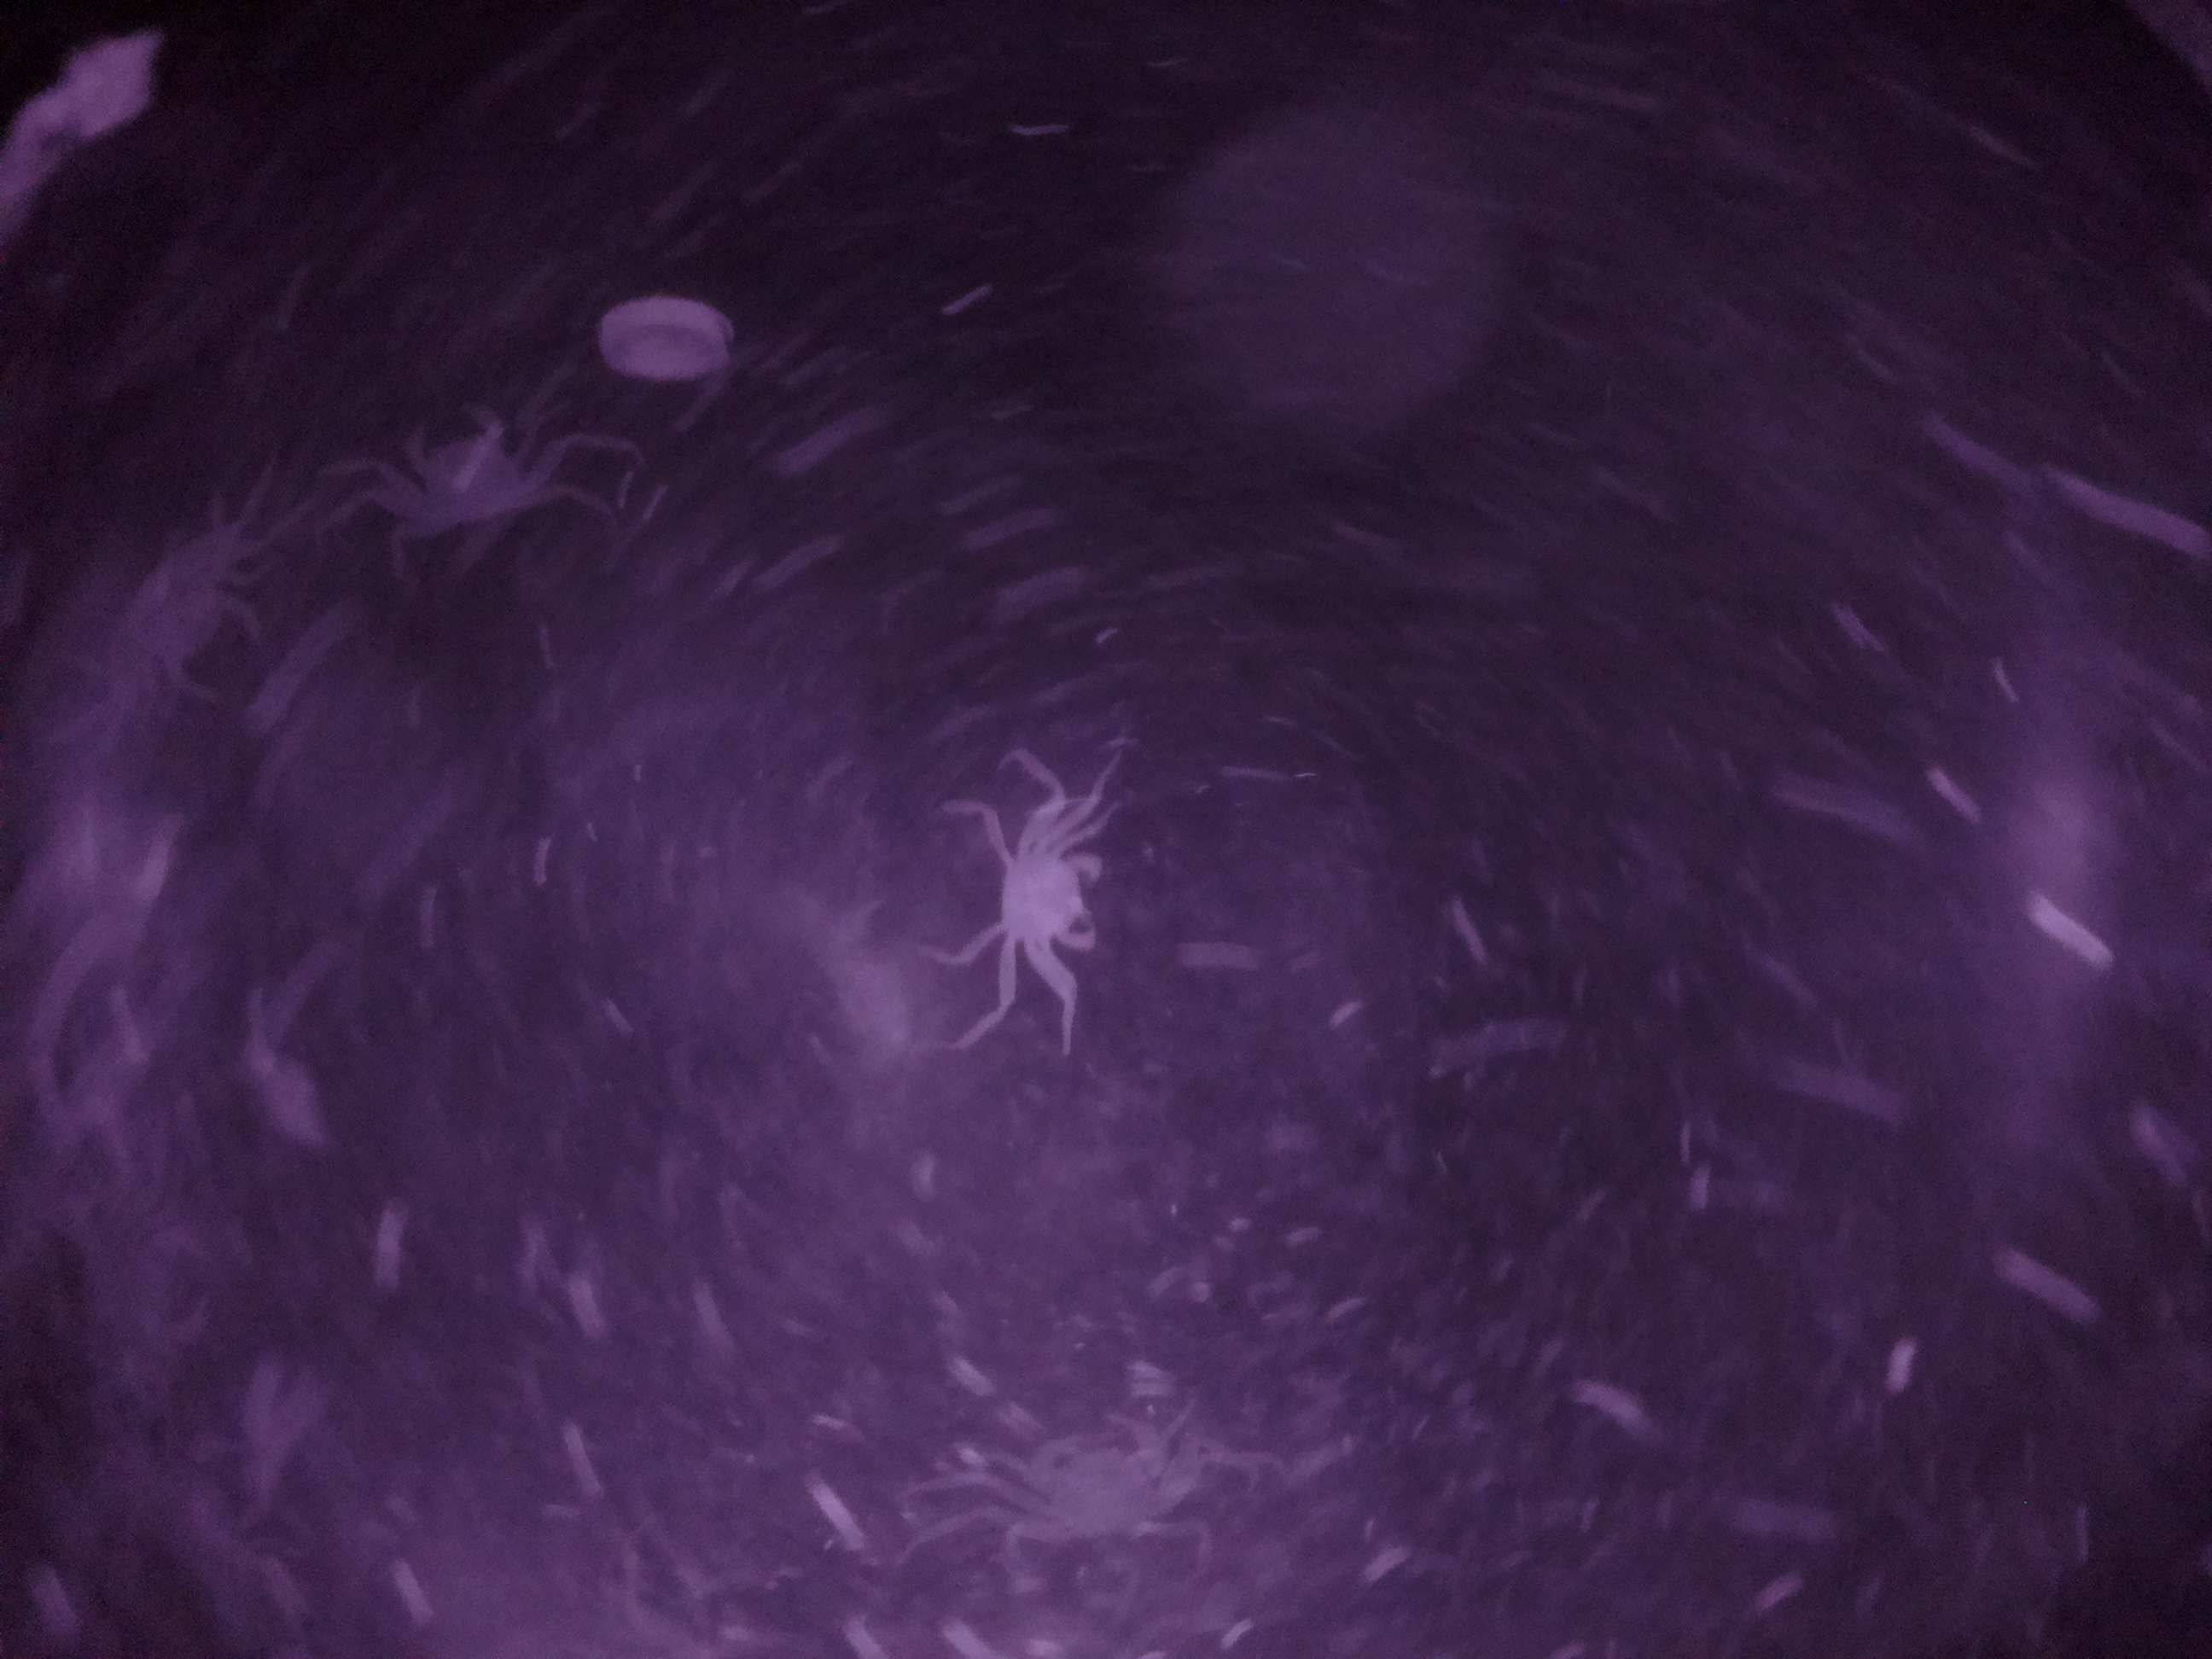Crab: (956, 777, 1111, 1004)
